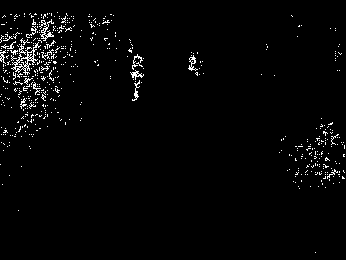person: (129, 53, 146, 103)
